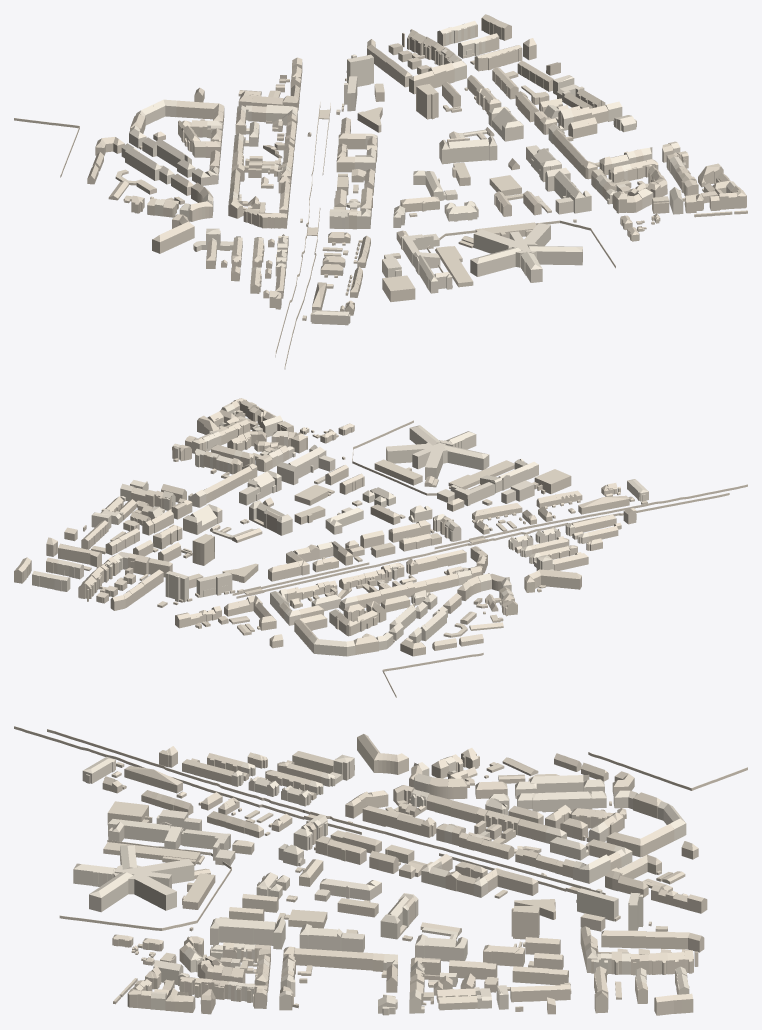
3 renders of one model, top to bottom at view 1: azimuth 30°, elevation 25°; view 2: azimuth 150°, elevation 25°; view 3: azimuth 270°, elevation 25°, orthographic. The views are drawn at different scales.
Bounding box in the file's own units: 699 × 38.19 × 764.
